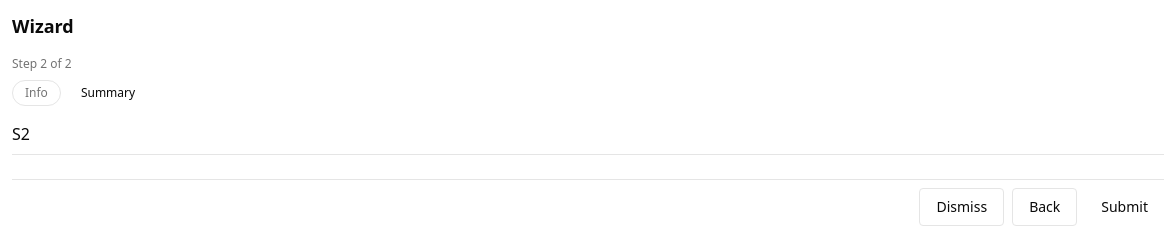
Scenario: Wizard button row › clicking Back returns to the previous step (no validation)
Expected: the text "Step 2 of 2" is shown, [12,55,72,72]
Click the button "Back".
click(1045, 207)  # box [1012,188,1077,226]
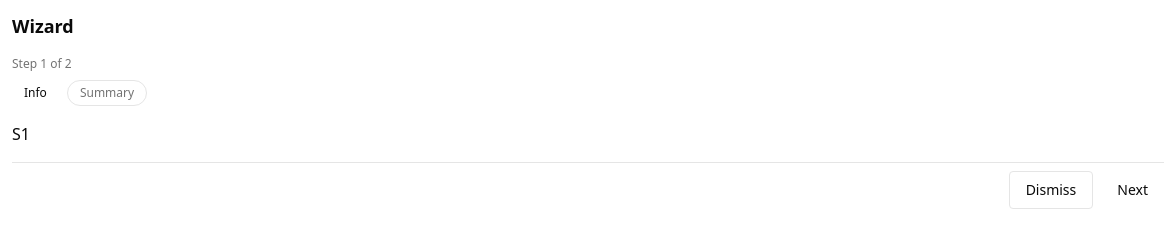
Result: the text "Step 1 of 2" is shown at [12,55,72,72]
